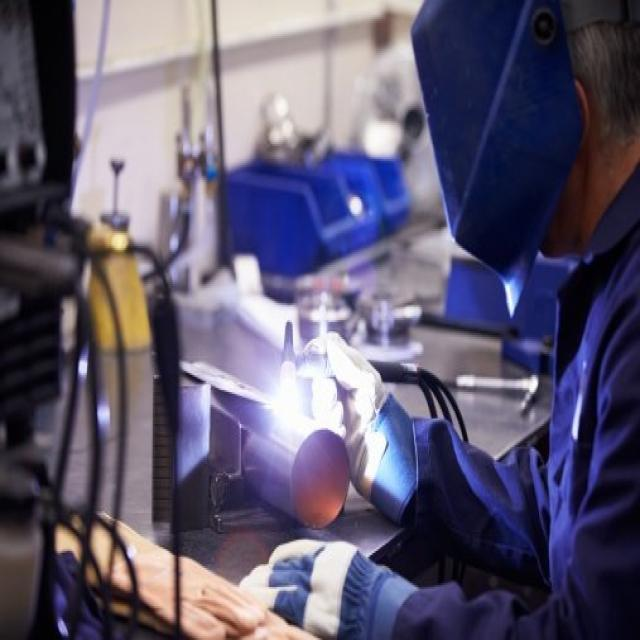with_helmet: (413, 0, 579, 277)
